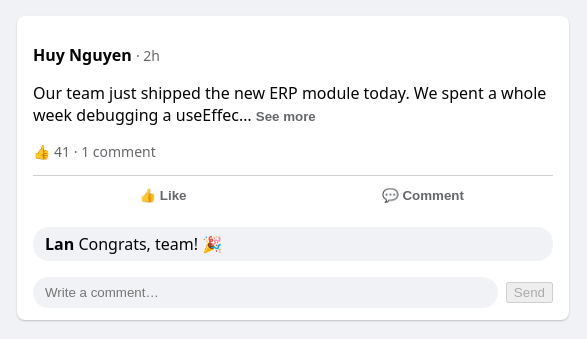
it: PostCard › bấm Thích thì số like +1, bấm lại thì -1
Check: the text with test id "summary" shows "👍 41", box [33, 142, 156, 161]
Step 1. Click the button "👍 Like" → (163, 196), box [33, 180, 293, 211]
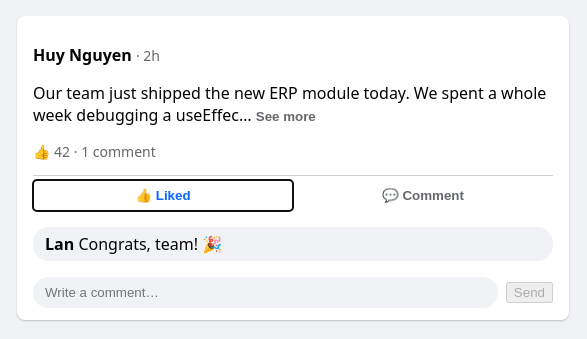
Check: the text with test id "summary" shows "👍 42", box [33, 142, 156, 161]
Step 2. Click the button "👍 Liked" → (163, 196), box [33, 180, 293, 211]
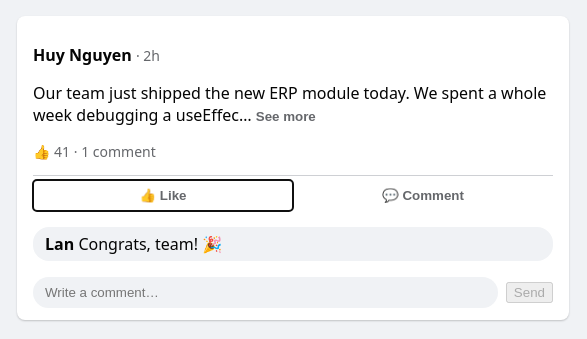
Check: the text with test id "summary" shows "👍 41", box [33, 142, 156, 161]
